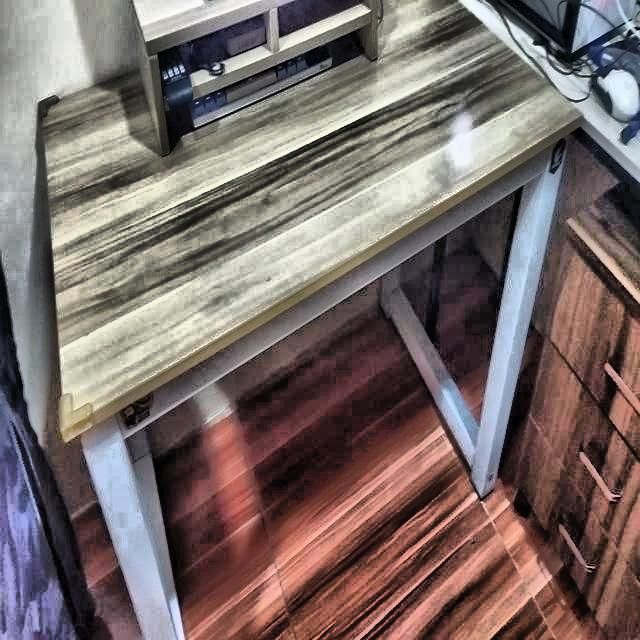mesa: (39, 0, 585, 640)
